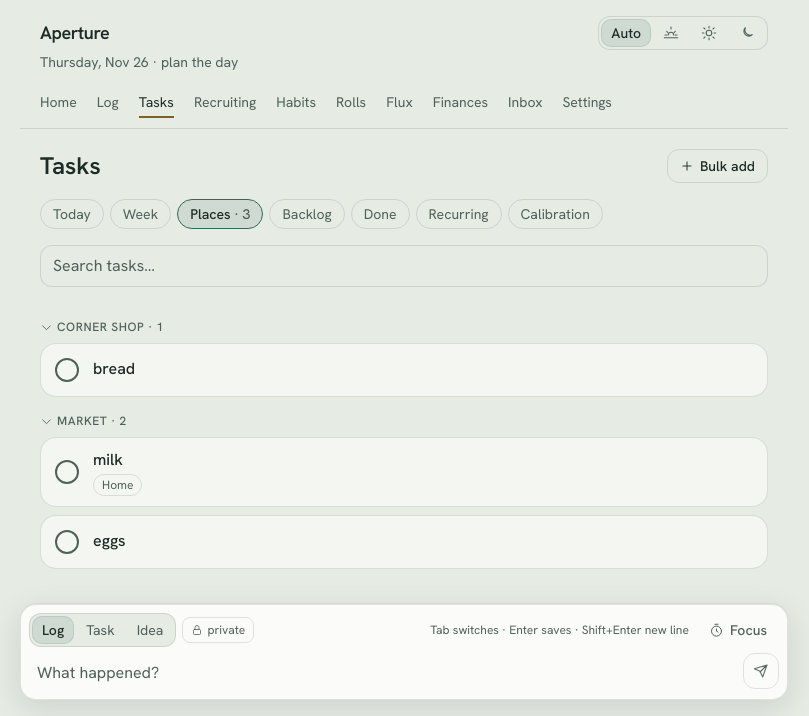
Test case: Places lens › one tap finishes an unstarted errand (started then done) and offers Add again
This screenshot has width=809, height=716.
Click the button named "Check off milk": (67, 472) [45,450,89,494]
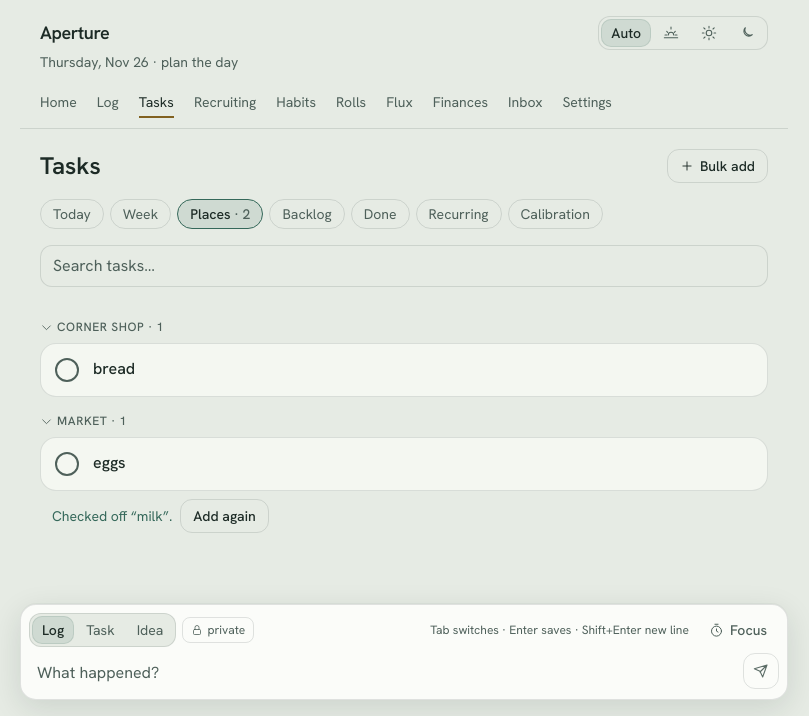
Expected: the text "Checked off “milk”." is shown, [52,506,172,526]
Expected: the button "Check off milk" is gone
Click the button "Add again": (224, 516) [180,499,269,533]
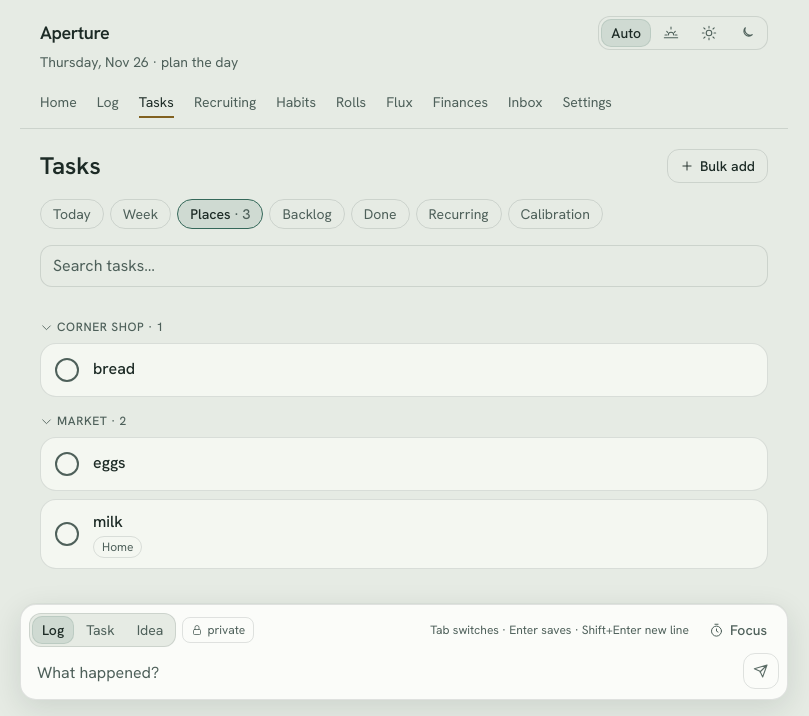
Expected: the text "Checked off “milk”." is gone
